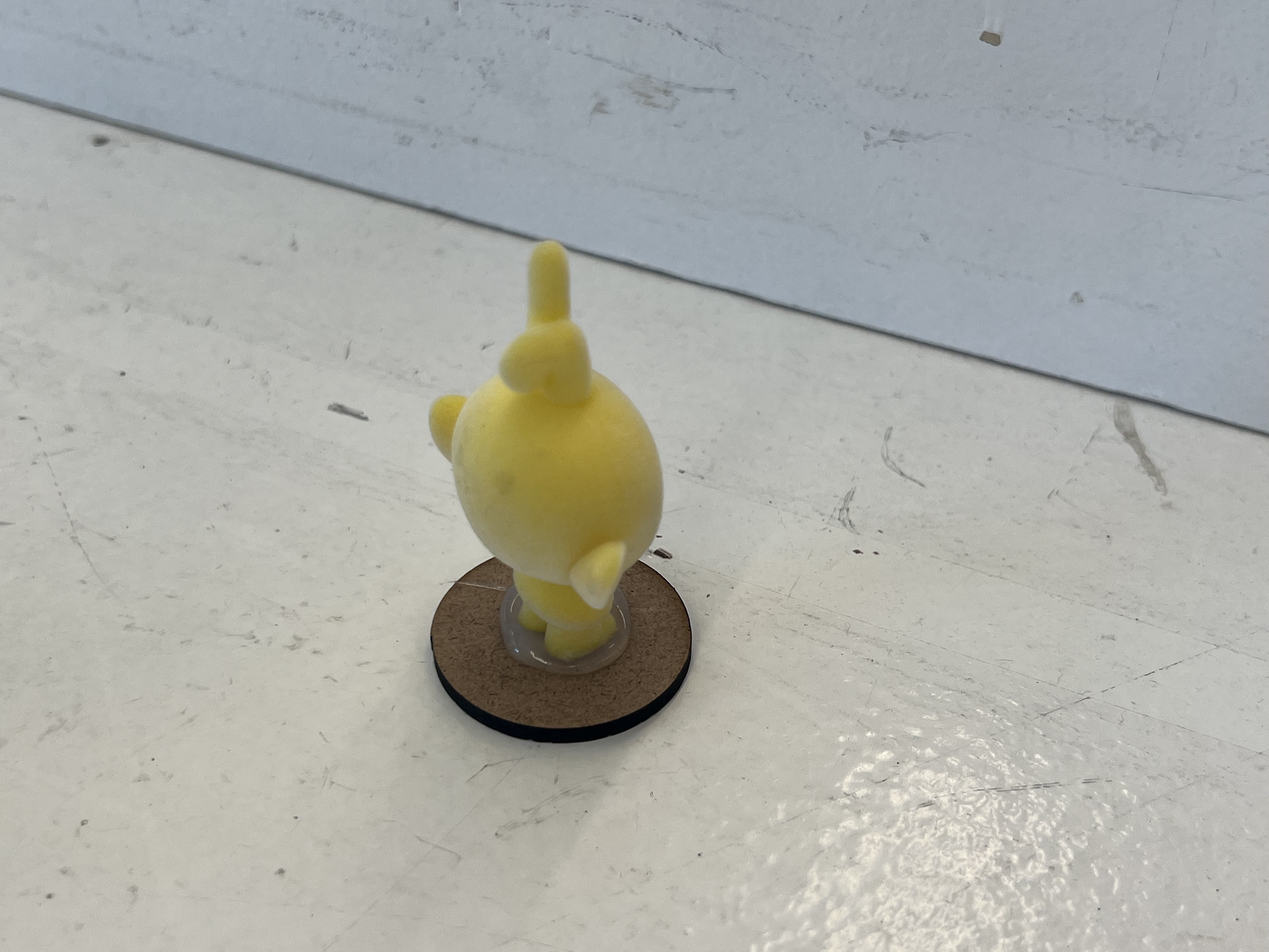teletubby: (429, 241, 663, 661)
